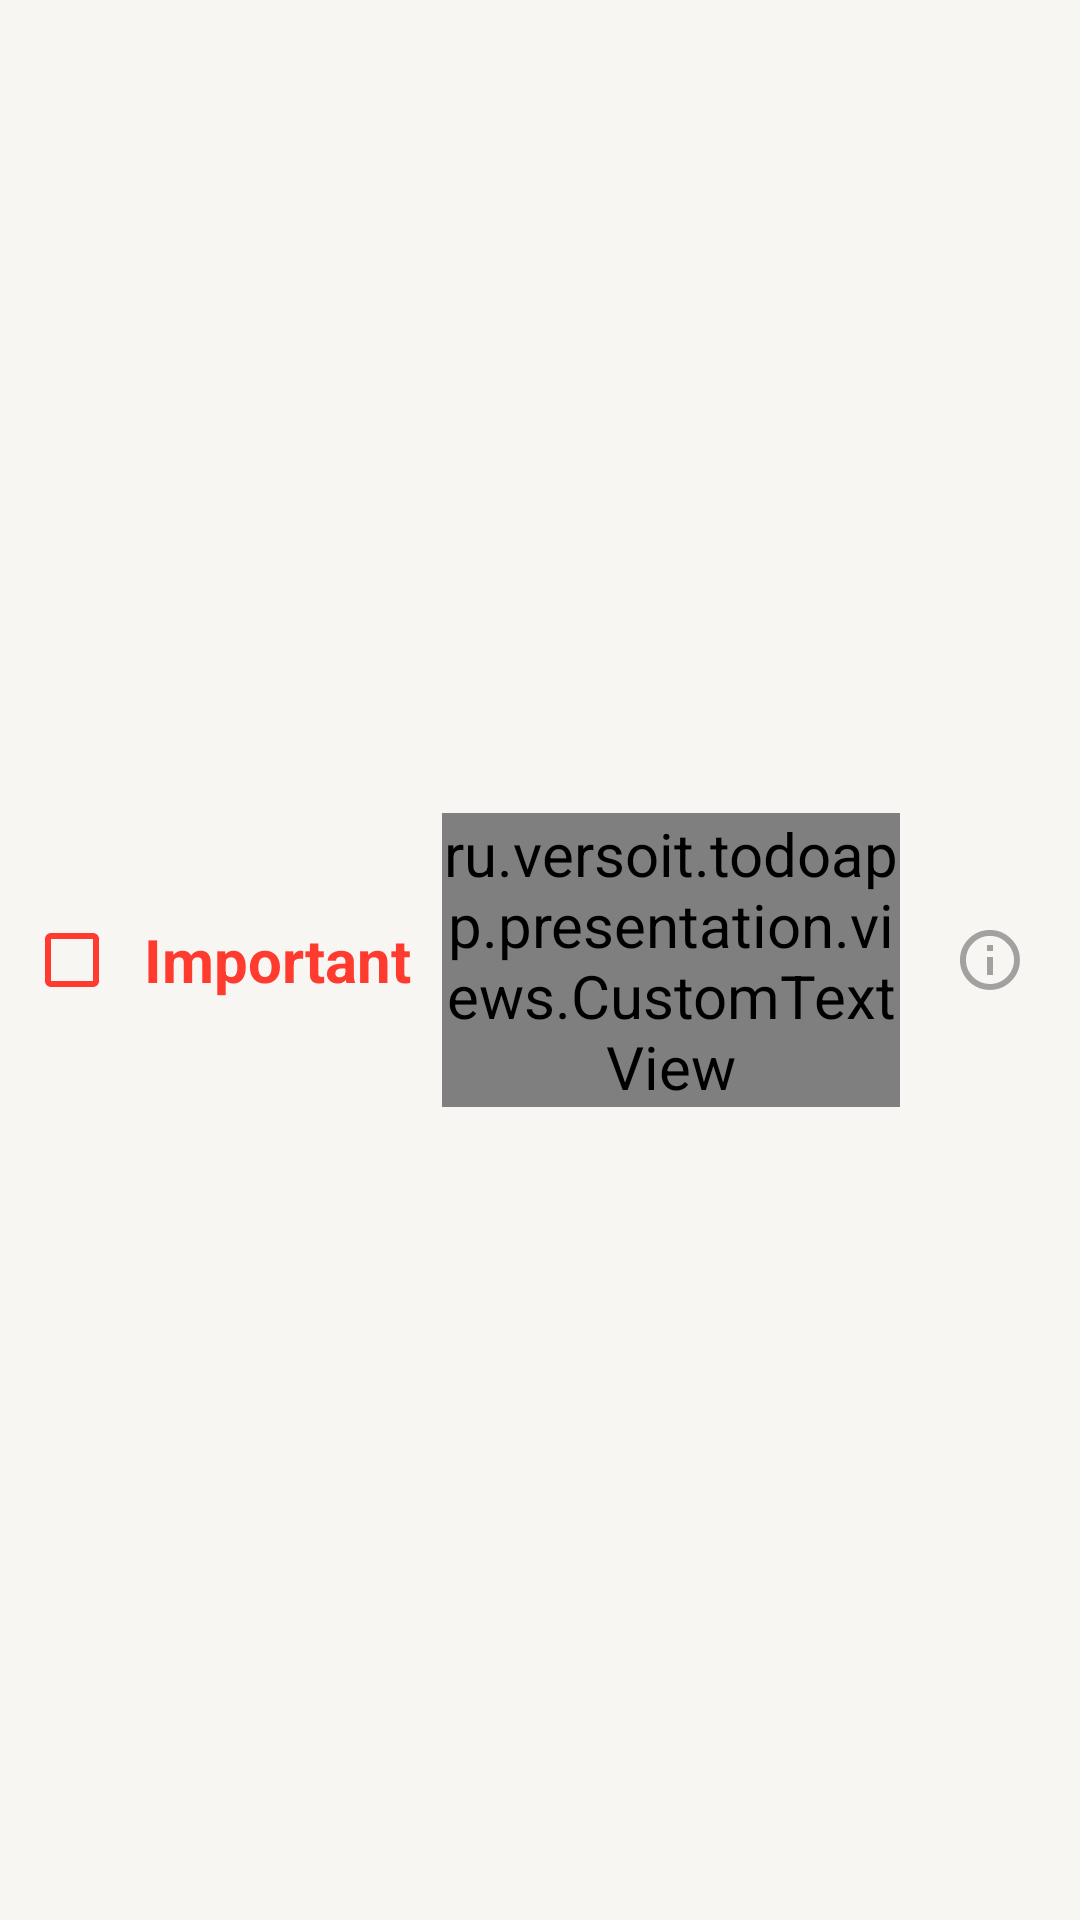

Where to tap for icons on this 1080px×1920px app screen, as (x=x, y=y):
Info: (x=990, y=960)
